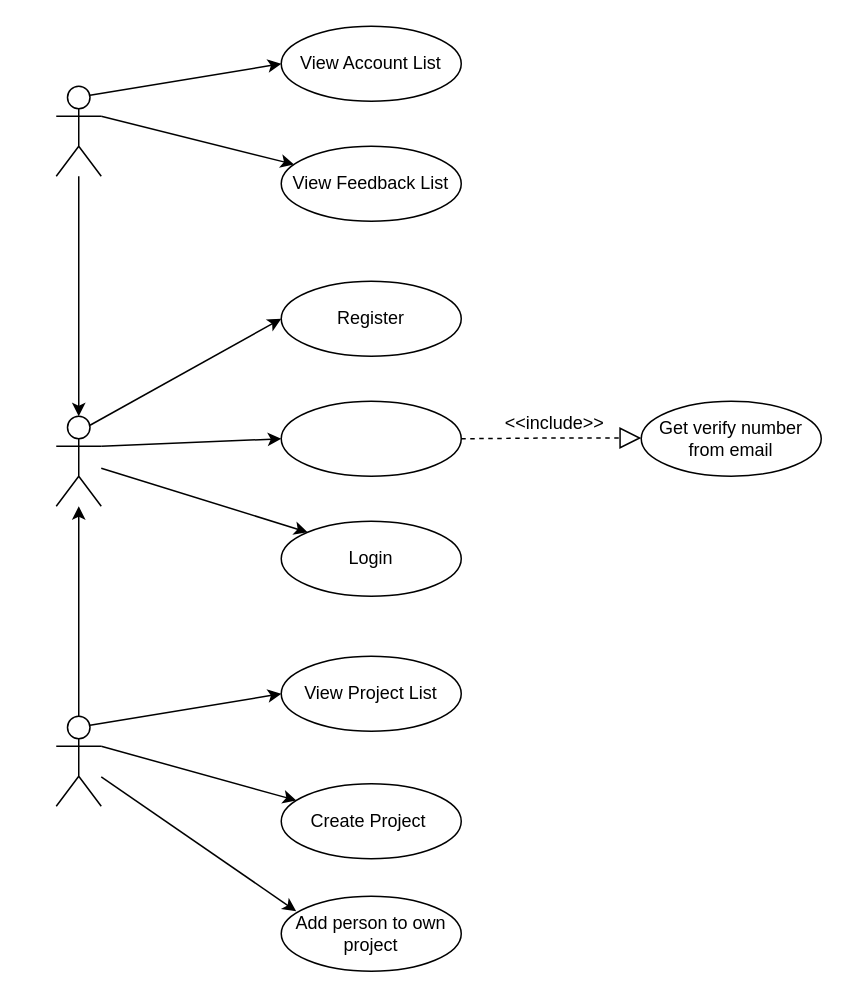
The diagram is 848 pixels wide and 998 high, and some of its shapes have lost their labels. Here are the shapes that lost their labels. From the top down, the centre of each, then its label:
At [78,130]: "Admin".
At [370,438]: "Reset Password".
At [78,460]: "User".
At [78,760]: "Logined User".
